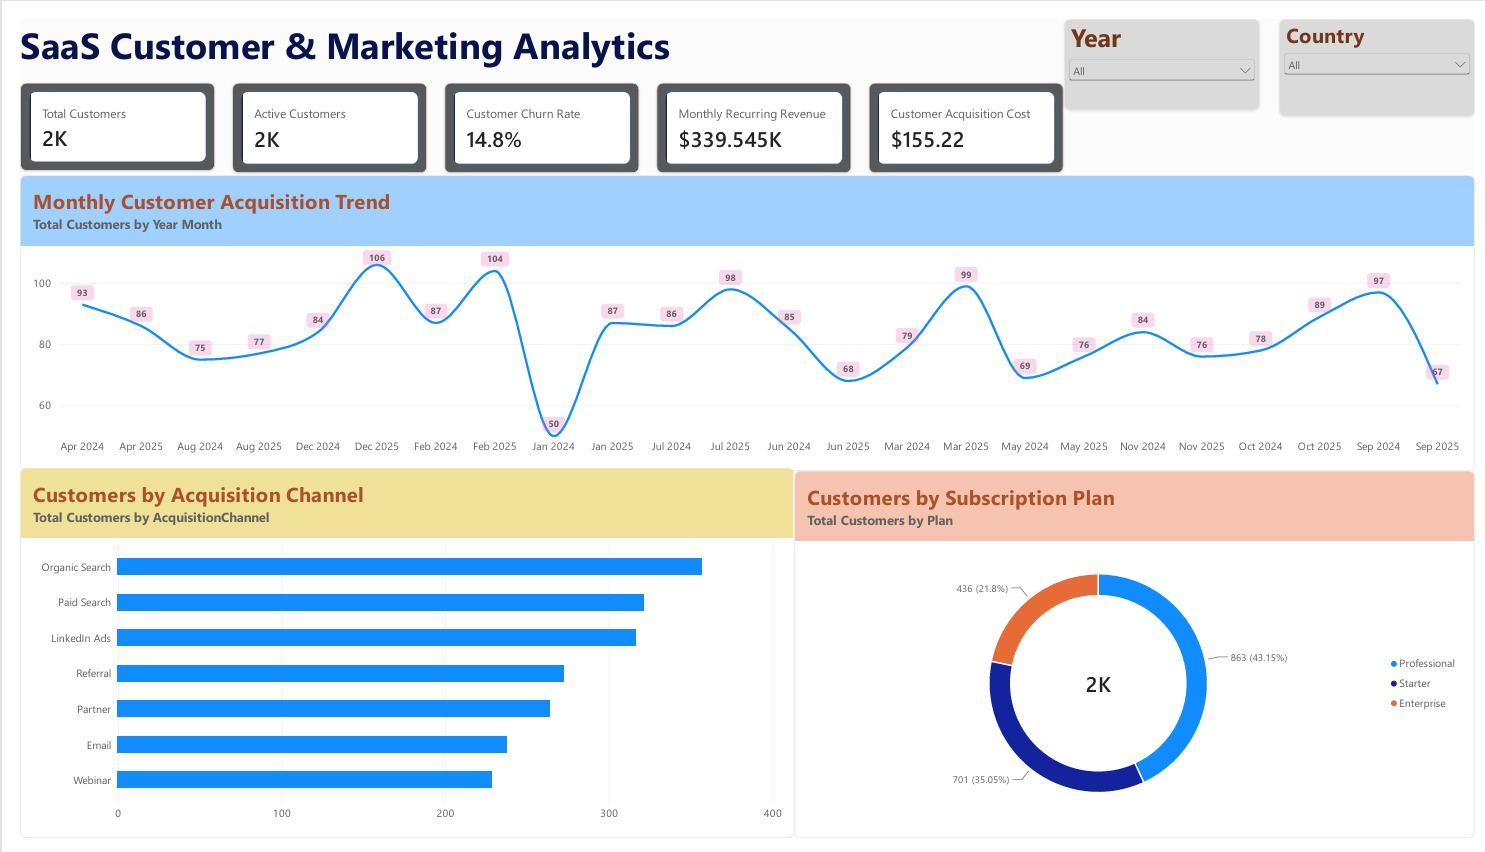

This screenshot's page, from the dashboard's own definition file:
{"tool":"powerbi","page":{"name":"Executive Overview","canvas":[1920,1080],"ordinal":0},"visuals":[{"type":"textbox","box":[0,0,887,86.9],"z":0},{"type":"cardVisual","fields":{"Data":["Customers.Total Customers"]},"box":[0,84,257,115.9],"z":1000},{"type":"cardVisual","fields":{"Data":["Customers.Active Customers"]},"box":[280,84,257,119.5],"z":2000},{"type":"cardVisual","fields":{"Data":["Customers.Monthly Recurring Revenue"]},"box":[840,84,257,119.5],"z":3000},{"type":"cardVisual","fields":{"Data":["Customers.Customer Churn Rate"]},"box":[560,84,257,119.5],"z":4000},{"type":"cardVisual","fields":{"Data":["Campaigns.Customer Acquisition Cost"]},"box":[1120,84,257,119.5],"z":5000},{"type":"lineChart","title":"Monthly Customer Acquisition Trend","fields":{"Category":["Calendar.Year Month"],"Y":["Customers.Total Customers"]},"box":[0,206,1920,390],"z":6000},{"type":"clusteredBarChart","title":"Customers by Acquisition Channel","fields":{"Category":["Customers.AcquisitionChannel"],"Y":["Customers.Total Customers"]},"box":[0,592,1022,488],"z":7000},{"type":"donutChart","title":"Customers by Subscription Plan","fields":{"Category":["Customers.Plan"],"Y":["Customers.Total Customers"]},"box":[1022,596,898,484],"z":8000},{"type":"slicer","fields":{"Values":["Calendar.Year"]},"box":[1378,0,258,120],"z":9000},{"type":"slicer","fields":{"Values":["Customers.Country"]},"box":[1662,0,258,128],"z":10000}]}

Visuals, with their boxes in screenshot pixels (x1, y1, x2, y2), scaled from the page's 1920x1080 canvas onto the 1485x852 screenshot:
textbox: pyautogui.locateOnScreen(0, 0, 686, 69)
cardVisual - Customers.Total Customers: pyautogui.locateOnScreen(0, 66, 199, 158)
cardVisual - Customers.Active Customers: pyautogui.locateOnScreen(217, 66, 415, 161)
cardVisual - Customers.Monthly Recurring Revenue: pyautogui.locateOnScreen(650, 66, 848, 161)
cardVisual - Customers.Customer Churn Rate: pyautogui.locateOnScreen(433, 66, 632, 161)
cardVisual - Campaigns.Customer Acquisition Cost: pyautogui.locateOnScreen(866, 66, 1065, 161)
"Monthly Customer Acquisition Trend" lineChart: pyautogui.locateOnScreen(0, 163, 1484, 470)
"Customers by Acquisition Channel" clusteredBarChart: pyautogui.locateOnScreen(0, 467, 790, 851)
"Customers by Subscription Plan" donutChart: pyautogui.locateOnScreen(790, 470, 1484, 851)
slicer - Calendar.Year: pyautogui.locateOnScreen(1066, 0, 1265, 95)
slicer - Customers.Country: pyautogui.locateOnScreen(1285, 0, 1484, 101)
